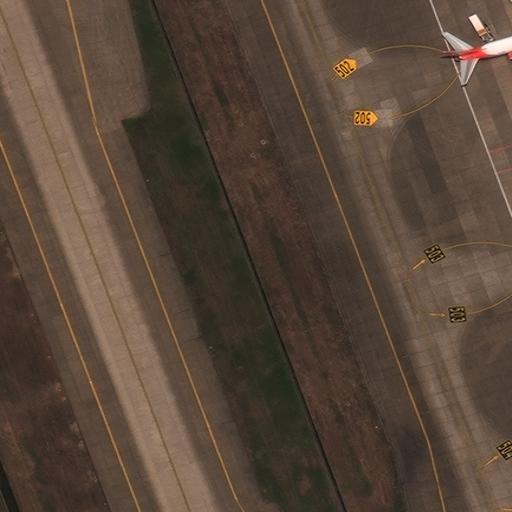Large Civil Transport: (454, 0, 512, 91)
